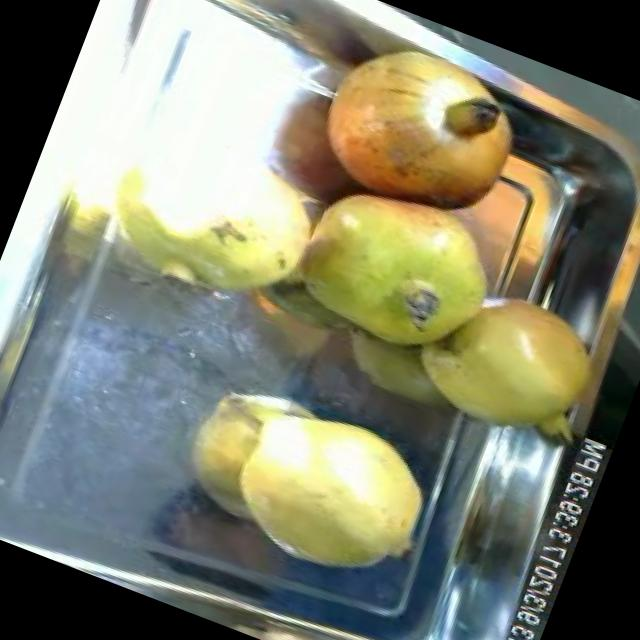fruit: (72, 92, 354, 344), (283, 6, 551, 246), (200, 376, 456, 604), (266, 156, 522, 384), (398, 262, 627, 468)
